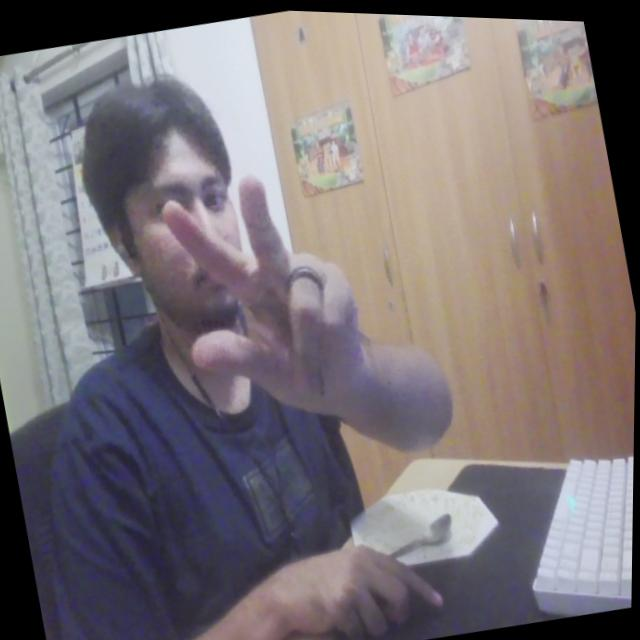no: (149, 145, 385, 452)
